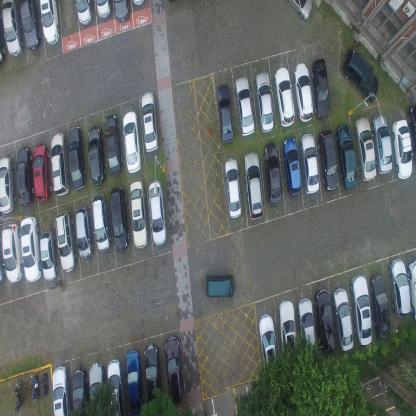car: (342, 46, 380, 102), (351, 274, 372, 348), (336, 123, 358, 190), (20, 216, 42, 283), (164, 335, 185, 405), (333, 287, 355, 352), (354, 116, 376, 180), (273, 66, 295, 129), (314, 288, 336, 350), (2, 222, 24, 284), (317, 129, 338, 192), (121, 111, 142, 174), (56, 209, 77, 272), (391, 117, 412, 180), (243, 152, 263, 218), (388, 257, 410, 317), (108, 184, 127, 252), (370, 275, 390, 339), (50, 134, 70, 198), (146, 178, 165, 245), (234, 75, 254, 138), (372, 114, 392, 176), (2, 0, 24, 56), (128, 180, 146, 248), (254, 72, 274, 133), (143, 343, 162, 407), (256, 311, 278, 366), (293, 62, 313, 122), (263, 140, 282, 203), (15, 144, 34, 207), (106, 358, 127, 415), (126, 349, 144, 415), (300, 132, 319, 194), (140, 92, 159, 154), (276, 298, 297, 354), (223, 157, 242, 216), (92, 193, 111, 252), (104, 115, 122, 177), (312, 58, 330, 119), (68, 128, 85, 192), (283, 136, 301, 196), (216, 83, 234, 143), (87, 126, 105, 186), (33, 141, 51, 201), (19, 0, 41, 48), (52, 364, 72, 416), (298, 296, 316, 352), (74, 208, 92, 262), (40, 230, 58, 283), (0, 157, 16, 216), (40, 0, 60, 46), (89, 360, 105, 415), (71, 366, 88, 415), (204, 272, 235, 298), (286, 0, 312, 22), (407, 260, 416, 322), (406, 101, 415, 162), (75, 0, 93, 26), (111, 0, 131, 22), (96, 0, 112, 20)
